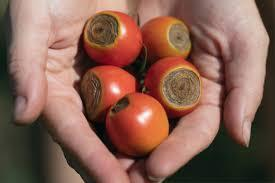tomato early blight: (79, 66, 138, 154), (106, 93, 172, 160), (83, 11, 146, 78), (144, 57, 203, 121), (140, 17, 194, 69)
